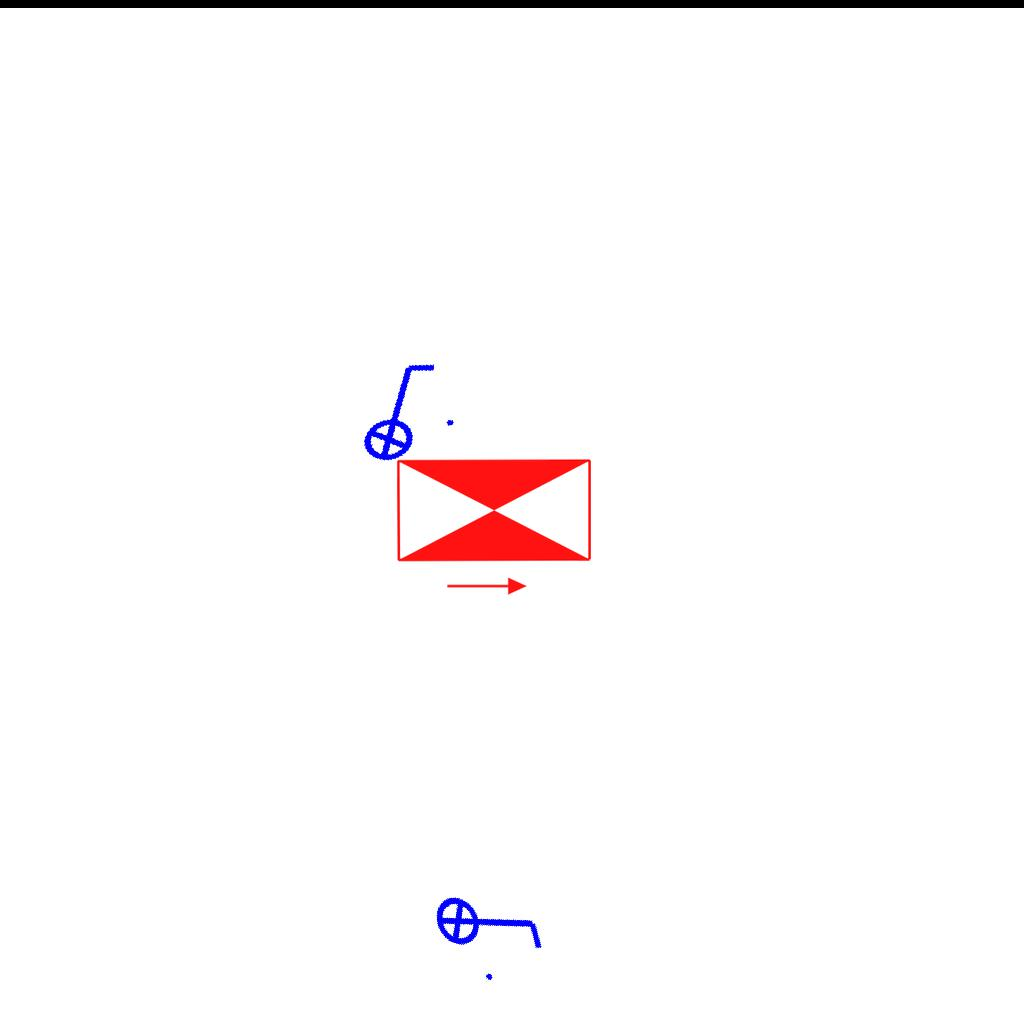Ausschalter_beleuchtet: (419, 850, 559, 996), (330, 348, 466, 472)
Fluchtwegpiktogramm: (390, 453, 598, 600)
